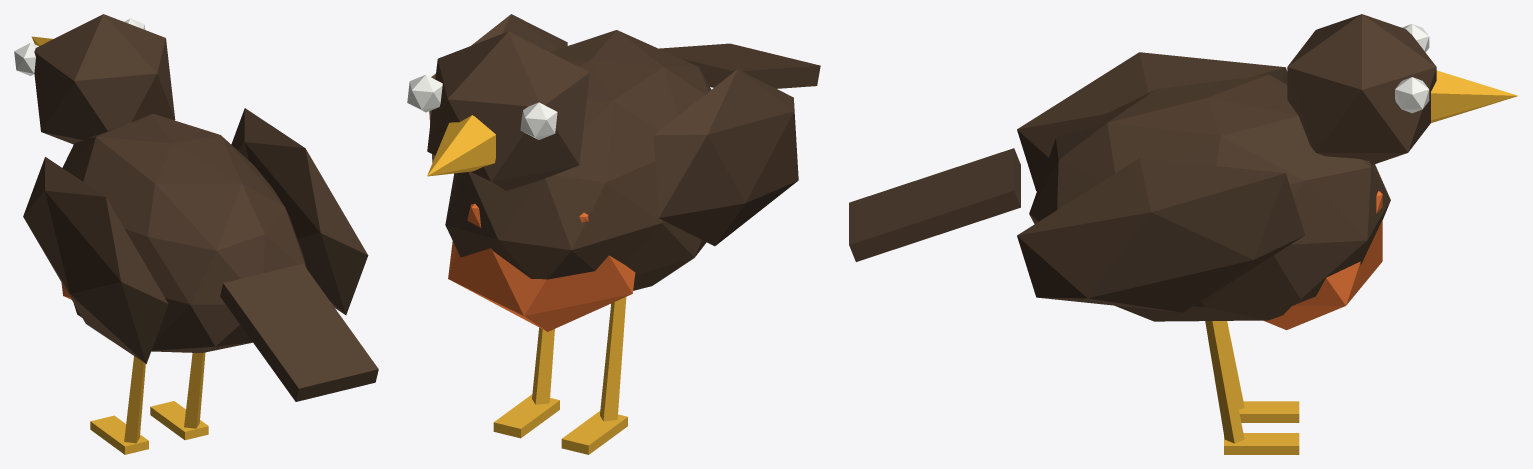
Rendered from sm_env_animal_bird.glb.
The picture shows the model from 3 angles, left to right: view 1: azimuth 30°, elevation 25°; view 2: azimuth 150°, elevation 25°; view 3: azimuth 270°, elevation 25°; orthographic projection. The views are drawn at different scales.
Visible parts, largest first — view 1: Body, Wing_LMesh, HeadMesh, TailMesh, Wing_RMesh, Leg, Foot, Foot.001, Leg.001, Eye; view 2: Body, Wing_LMesh, HeadMesh, Breast, TailMesh, Beak, Leg, Foot.001, Foot, Wing_RMesh, Leg.001, Eye (+1 smaller); view 3: Body, Wing_RMesh, HeadMesh, TailMesh, Wing_LMesh, Breast, Beak, Leg.001, Foot.001, Foot, Eye.001.
Part boxes in pixels (left/top/right/bottom): Body: left=62, top=114, right=306, bottom=352; Wing_LMesh: left=23, top=157, right=168, bottom=363; HeadMesh: left=34, top=14, right=175, bottom=144; TailMesh: left=220, top=263, right=378, bottom=401; Wing_RMesh: left=231, top=108, right=368, bottom=315; Leg: left=124, top=356, right=145, bottom=443; Foot: left=90, top=415, right=148, bottom=454; Foot.001: left=150, top=401, right=208, bottom=440; Leg.001: left=184, top=352, right=205, bottom=428; Eye: left=14, top=43, right=38, bottom=75; Body: left=445, top=30, right=711, bottom=290; Wing_LMesh: left=654, top=69, right=798, bottom=246; HeadMesh: left=427, top=31, right=589, bottom=190; Breast: left=448, top=203, right=635, bottom=331; TailMesh: left=659, top=43, right=820, bottom=88; Beak: left=427, top=115, right=495, bottom=176; Leg: left=600, top=297, right=626, bottom=421; Foot.001: left=493, top=394, right=559, bottom=438; Foot: left=561, top=411, right=627, bottom=454; Wing_RMesh: left=429, top=14, right=567, bottom=162; Leg.001: left=532, top=327, right=554, bottom=404; Eye: left=520, top=102, right=557, bottom=139; Body: left=1029, top=74, right=1390, bottom=321; Wing_RMesh: left=1017, top=158, right=1304, bottom=312; HeadMesh: left=1287, top=14, right=1436, bottom=164; TailMesh: left=849, top=148, right=1020, bottom=261; Wing_LMesh: left=1017, top=52, right=1287, bottom=191; Breast: left=1264, top=191, right=1382, bottom=330; Beak: left=1431, top=70, right=1518, bottom=122; Leg.001: left=1205, top=321, right=1244, bottom=443; Foot.001: left=1224, top=433, right=1299, bottom=454; Foot: left=1239, top=401, right=1299, bottom=422; Eye.001: left=1395, top=77, right=1429, bottom=113.
Size of the model in its own units: 0.1215 by 0.1847 by 0.2667.
